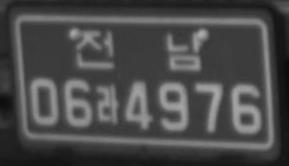0: (28, 75, 59, 127)
4: (122, 79, 154, 131)
6: (229, 82, 262, 137), (62, 77, 94, 129)
7: (194, 82, 224, 133)
9: (157, 78, 189, 133)
라: (95, 83, 120, 125)
전남_D: (73, 27, 204, 73)
